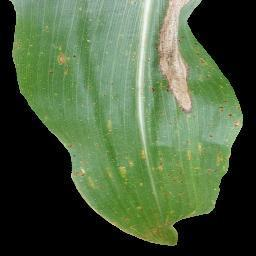Corn_Common_Rust: (35, 140, 242, 250), (148, 0, 240, 140), (5, 0, 40, 117), (40, 28, 75, 81), (95, 107, 113, 147), (74, 4, 94, 26), (83, 28, 96, 46)
